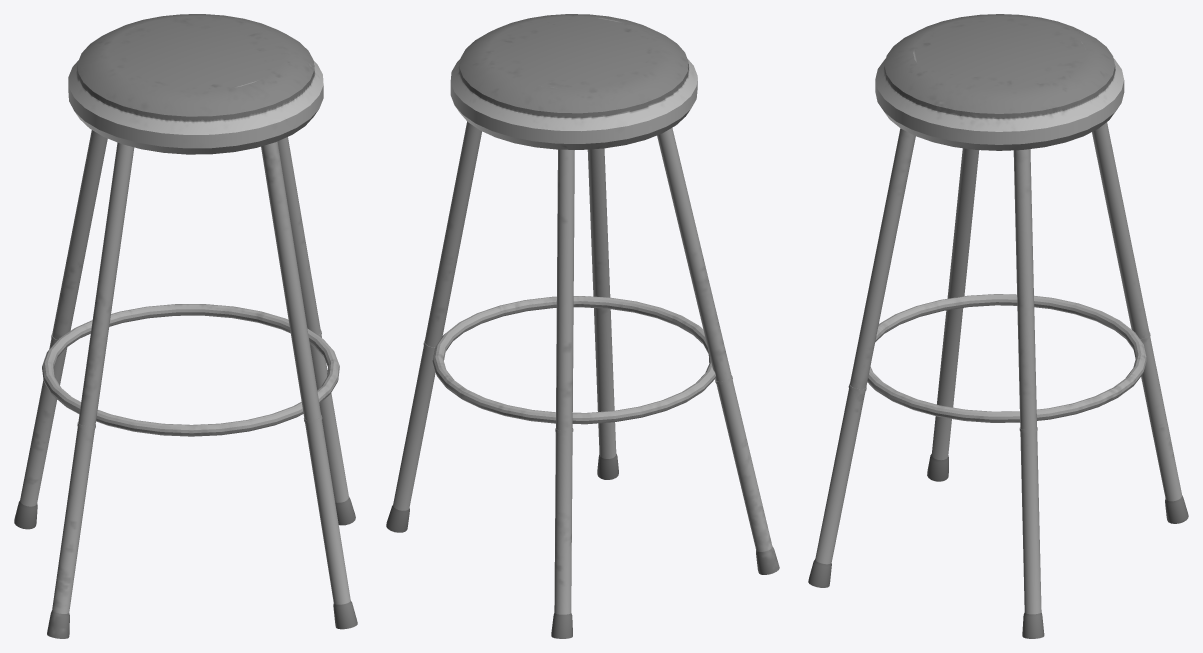
File: metalStool00.fbx
3 renders of one model, left to right at view 1: azimuth 30°, elevation 25°; view 2: azimuth 150°, elevation 25°; view 3: azimuth 270°, elevation 25°, orthographic. The views are drawn at different scales.
Parts seen in each view (by area): view 1: metalStool.001; view 2: metalStool.001; view 3: metalStool.001.
Part boxes in pixels (<box>): metalStool.001: <box>14,14,357,638</box>; metalStool.001: <box>386,14,779,638</box>; metalStool.001: <box>808,14,1188,638</box>.
Bounding box in the file's own units: 1.87 × 2.62 × 1.78.
1 material, 1 textured.
